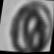correct: (2, 0, 54, 54)
